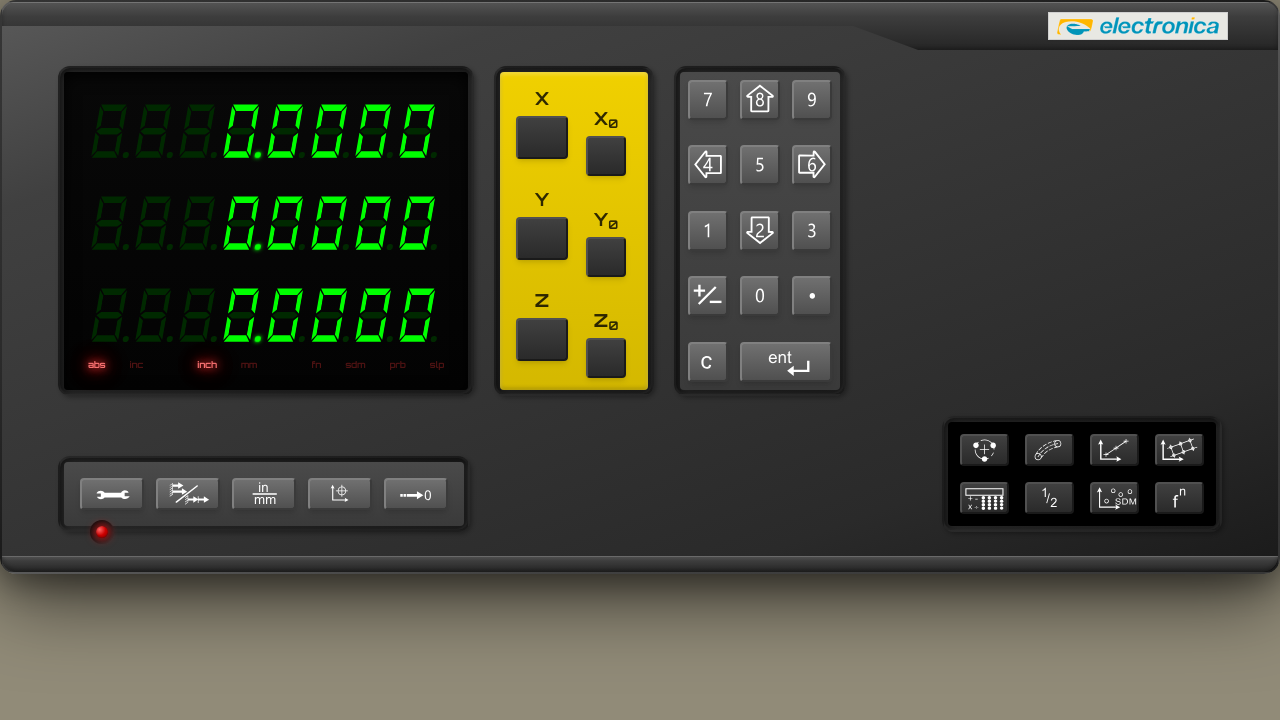
Test case: US-039 Setup Menu Navigation (integration) › left/right cycles choices for the current item with wrap (AC 39.4)
The width and height of the screenshot is (1280, 720).
Click the button with test id "btn-settings" at (112, 494), box [80,478,144,510]
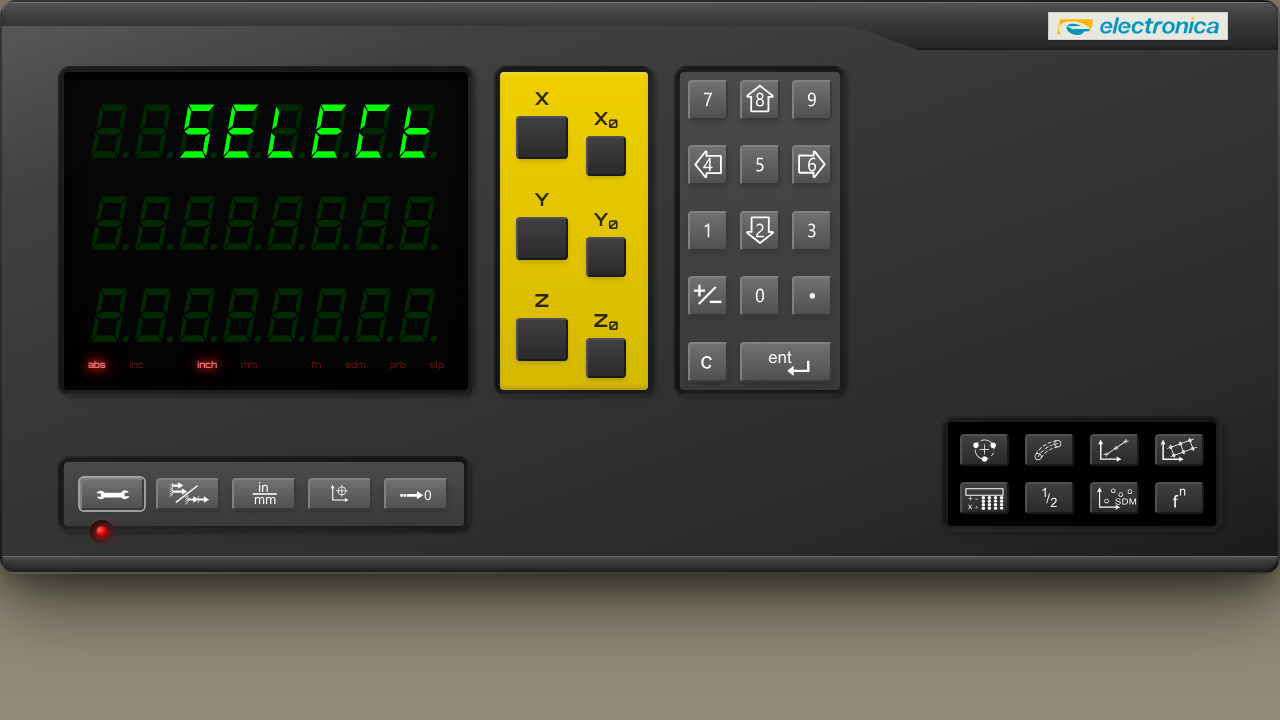
Click the button with test id "axis-select-x" at (542, 138), box [516,116,568,159]
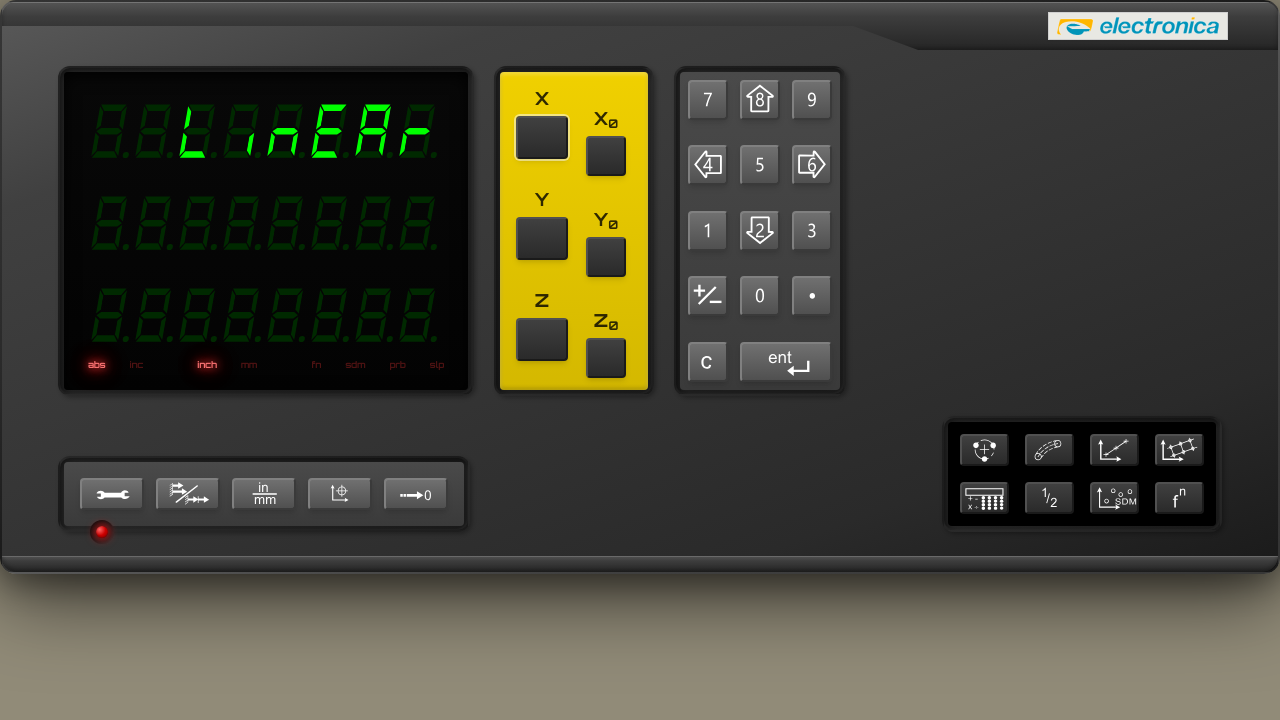
Expected: the cell with test id "axis-value-x" reads "LinEAr", [121,116,182,136]
Click the button with test id "key-6" at (812, 165), box [792,145,832,185]
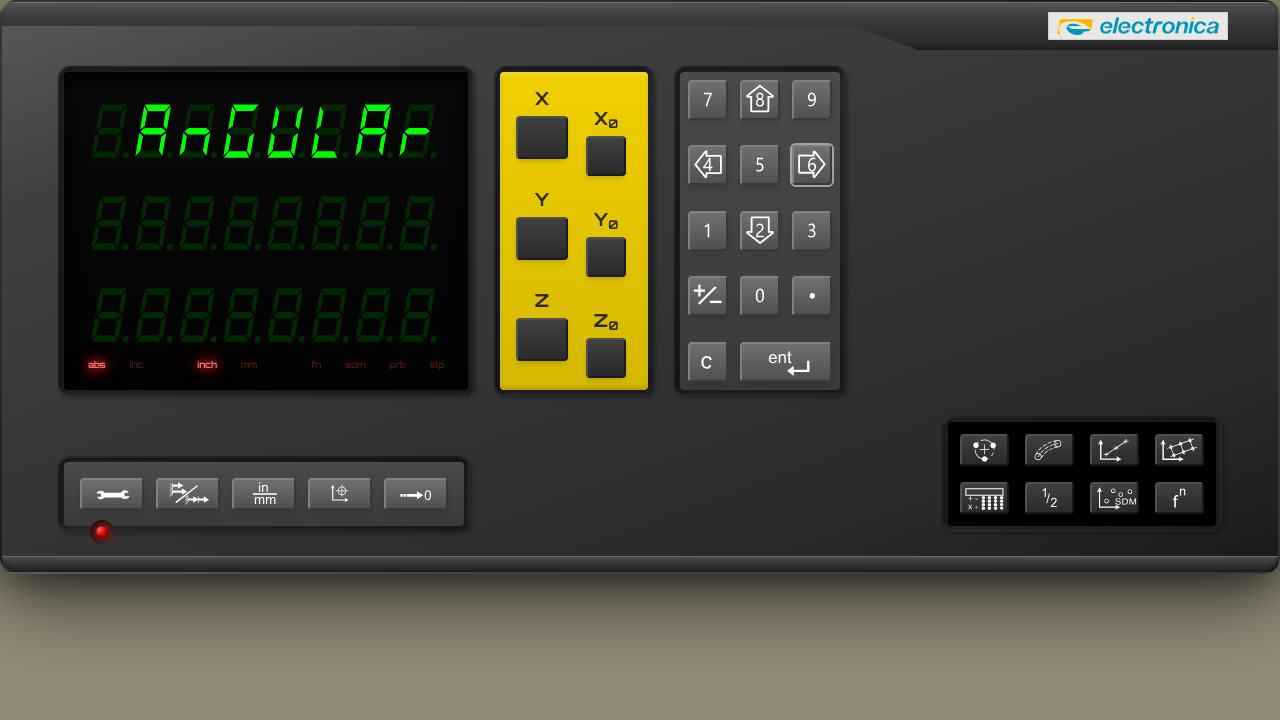
Expected: the cell with test id "axis-value-x" reads "AnGULAr", [121,116,206,136]
Click the button with test id "key-4" at (708, 165), box [688,145,728,185]
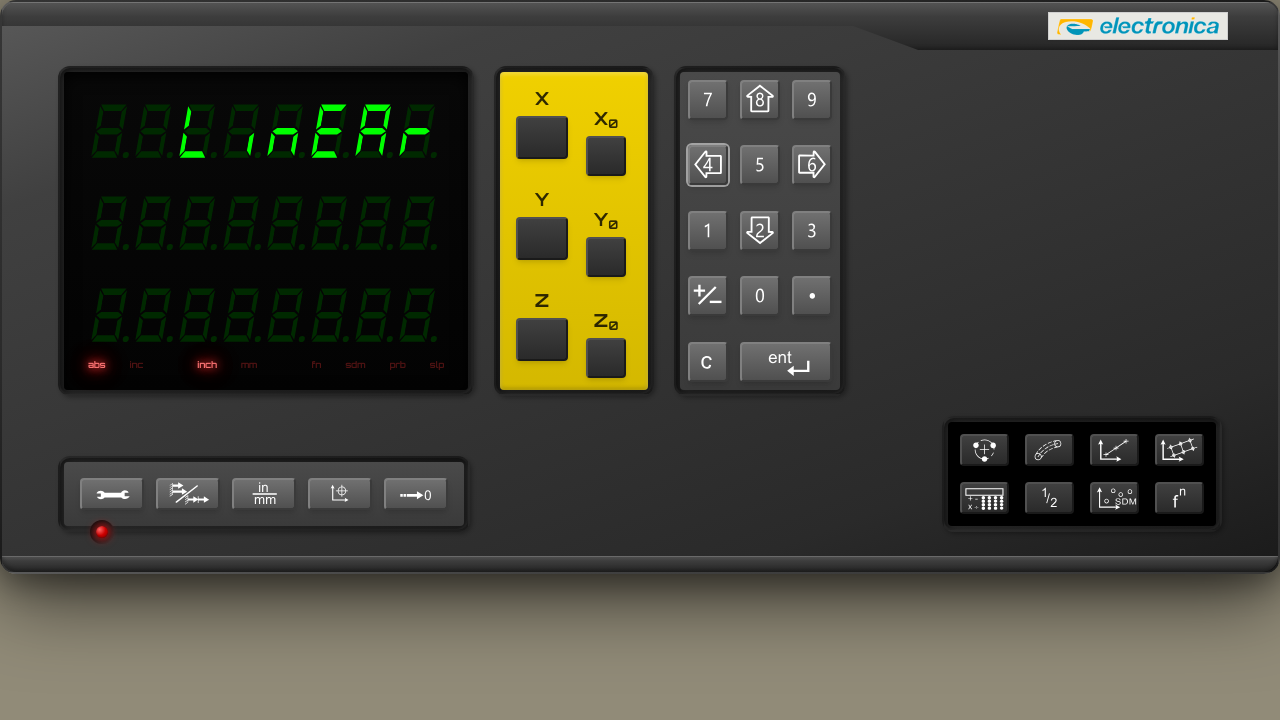
Expected: the cell with test id "axis-value-x" reads "LinEAr", [121,116,182,136]
